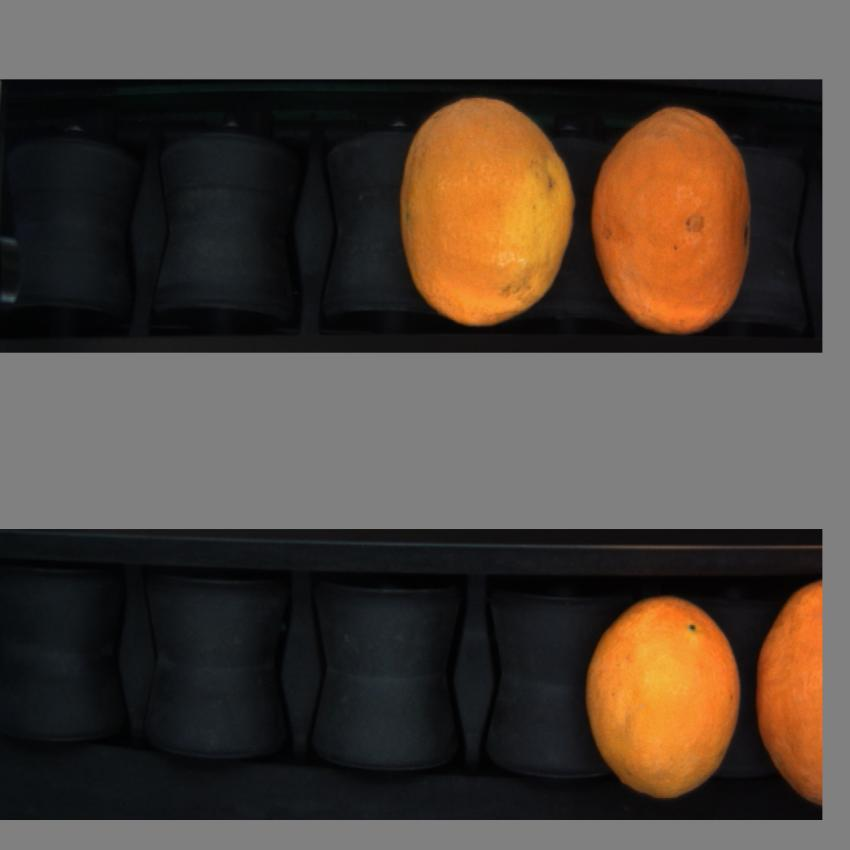Buen estado: (393, 93, 577, 326), (590, 98, 757, 336), (584, 587, 745, 805), (754, 573, 824, 809)
